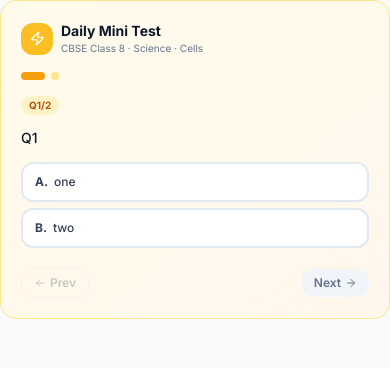
it: Daily Mini Test auto-save › on failure shows the error and "Try saving again", does not auto-retry, and the button retries
The width and height of the screenshot is (390, 368).
Click the button "A.one" at [39, 181], box left=21, top=162, right=369, bottom=202
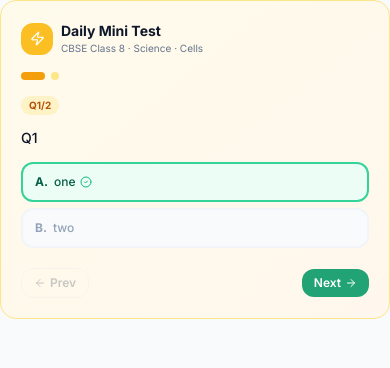
Click the button "Next" at [335, 283], box left=302, top=269, right=369, bottom=297
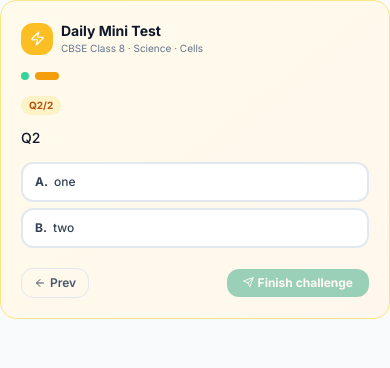
Click the button "B.two" at [39, 227], box left=21, top=208, right=369, bottom=248
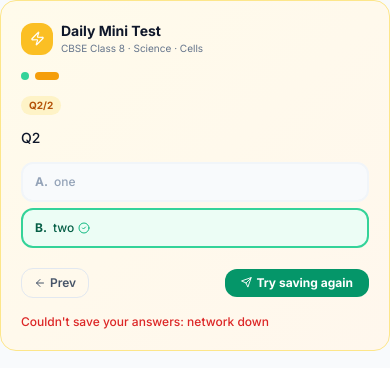
Now the message "Couldn't save your answers: network down" is shown, box left=21, top=314, right=269, bottom=329
Click the button "Try saving again" at [297, 283], box left=226, top=269, right=369, bottom=297
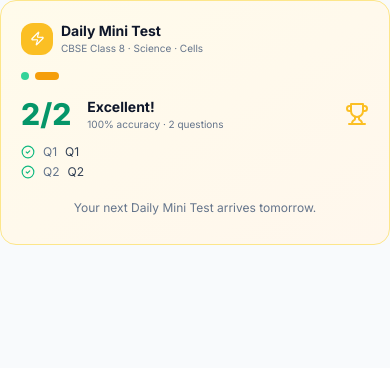
Now the message "Couldn't save your answers: network down" is gone
